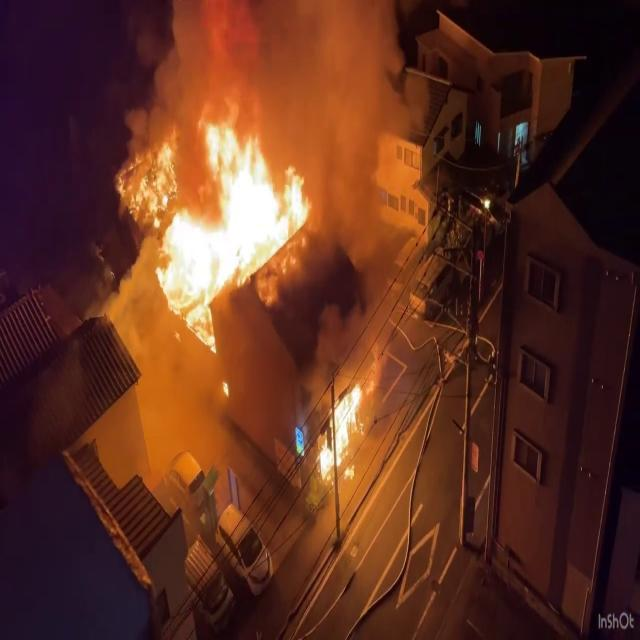Fire: (136, 101, 318, 342), (292, 371, 370, 497)
Smoke: (256, 0, 426, 259)
